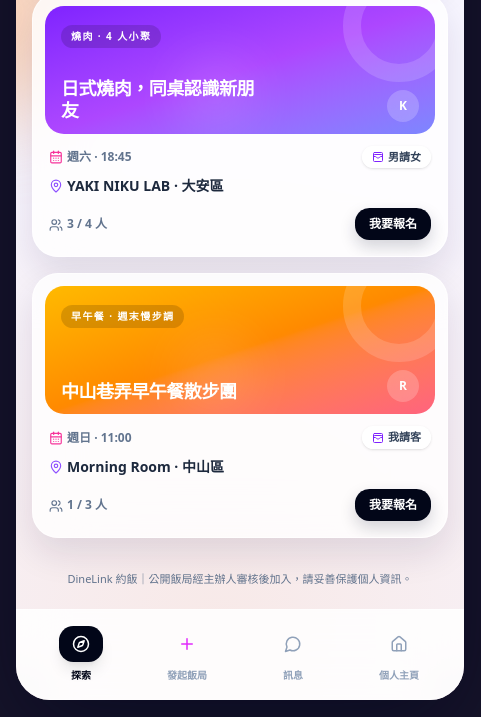
Test: 發起飯局表單 › 未填必填欄位時會顯示驗證提示
(page scrolled)
Click the button "發起飯局": (187, 655) [134, 620, 240, 689]
(page scrolled)
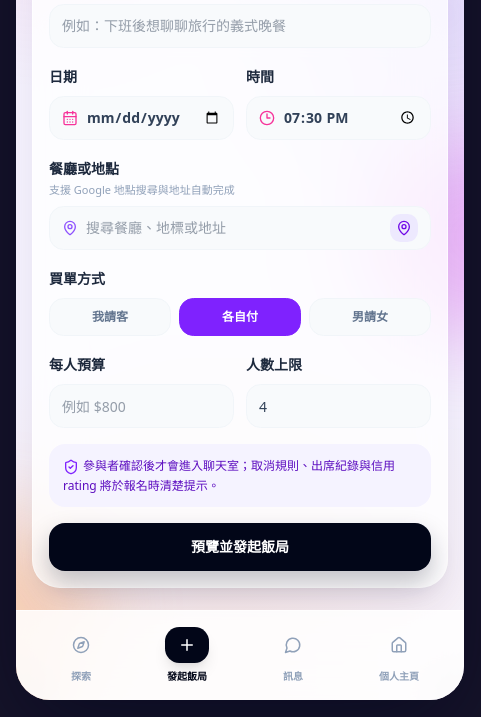
Click the button "預覽並發起飯局": (240, 547) [49, 523, 431, 571]
(page scrolled)
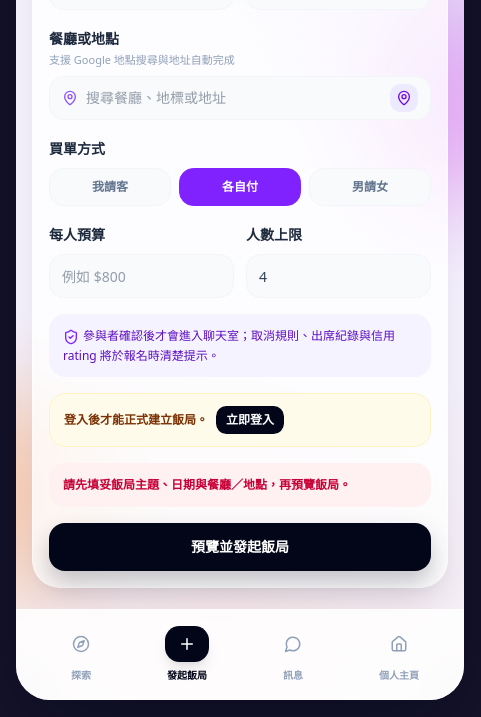
Now the message shows "請先填妥飯局主題、日期與餐廳／地點", box [63, 476, 351, 493]
